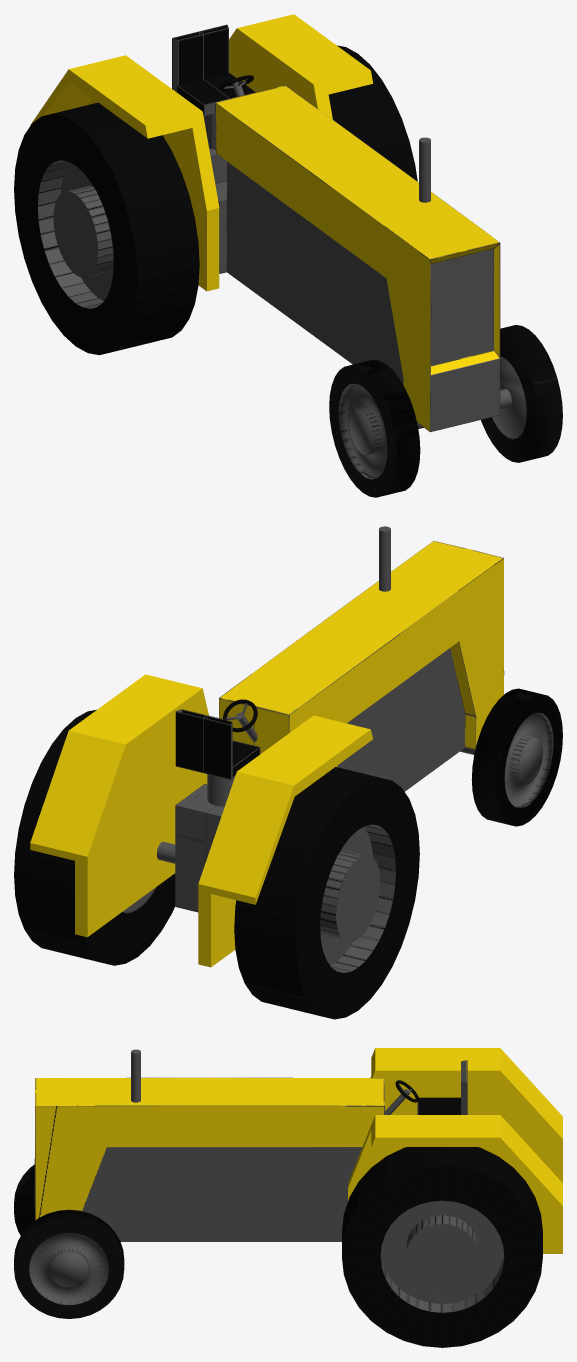
Rendered from tractor.fbx.
The picture shows the model from 3 angles, top to bottom: view 1: azimuth 30°, elevation 25°; view 2: azimuth 150°, elevation 25°; view 3: azimuth 270°, elevation 25°; orthographic projection. The views are drawn at different scales.
Visible parts, largest first — view 1: Tractor; view 2: Tractor; view 3: Tractor.
Boxes of the visible parts, x1,y1,x2,y2 form: Tractor: (14,14,562,497); Tractor: (14,526,562,1019); Tractor: (14,1048,562,1347).
Bounding box in the file's own units: 161 × 166 × 333.
